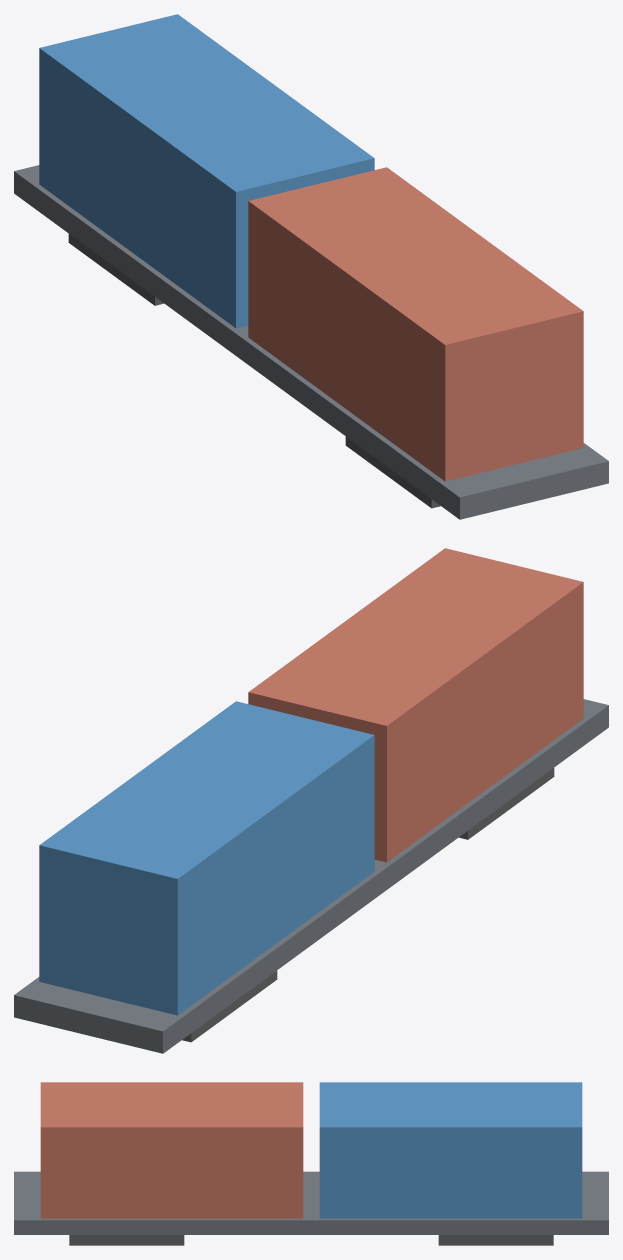
File: AURORA_freight_wagon.glb
3 renders of one model, top to bottom at view 1: azimuth 30°, elevation 25°; view 2: azimuth 150°, elevation 25°; view 3: azimuth 270°, elevation 25°, orthographic. The views are drawn at different scales.
Visible parts, largest first — view 1: RootNode; view 2: RootNode; view 3: RootNode.
Boxes of the visible parts, x1,y1,x2,y2 form: RootNode: (14,14,608,519); RootNode: (14,548,608,1053); RootNode: (14,1082,608,1245).
Size of the model in its own units: 2.8 by 3.25 by 14.5.
